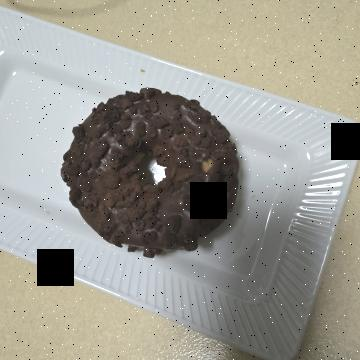doughnut: (83, 104, 274, 296)
